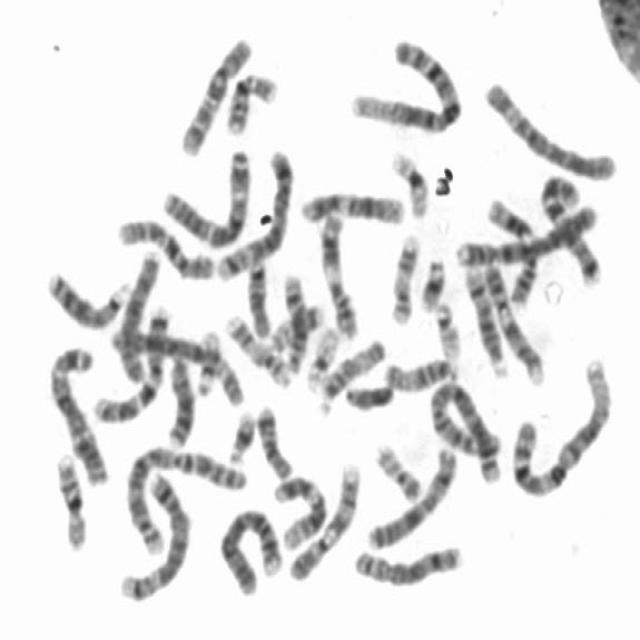A1: (505, 348, 617, 500), (343, 32, 464, 134)
A2: (120, 438, 250, 558), (426, 374, 506, 486)
A3: (157, 141, 256, 251), (44, 337, 114, 489)
B4: (452, 197, 601, 270), (216, 500, 286, 597)
B5: (212, 141, 296, 283), (114, 464, 192, 604)
C10: (175, 28, 256, 158), (111, 210, 215, 282)
C11: (483, 191, 542, 309), (315, 204, 362, 340)
C12: (270, 468, 330, 552), (296, 183, 409, 226)
C6: (479, 72, 620, 182), (107, 320, 248, 409)
C7: (88, 300, 174, 426), (533, 166, 603, 288)
C8: (114, 242, 164, 386), (348, 534, 467, 588)
C9: (283, 454, 363, 584), (478, 258, 548, 387)
D13: (44, 263, 130, 331), (163, 348, 197, 449)
D14: (461, 256, 513, 380), (278, 269, 311, 375)
D15: (312, 330, 389, 416), (382, 349, 461, 394)
E16: (220, 64, 282, 137), (51, 447, 90, 553)
E17: (220, 306, 294, 388), (385, 227, 422, 327)
E18: (252, 398, 295, 480), (242, 252, 274, 338)
F19: (385, 144, 431, 219), (302, 320, 341, 393)
F20: (371, 435, 425, 503), (266, 298, 326, 354)
G21: (415, 249, 449, 313), (223, 403, 257, 467)
G22: (191, 322, 224, 398), (430, 294, 463, 360)
X: (363, 439, 462, 553)
Y: (340, 375, 398, 413)
